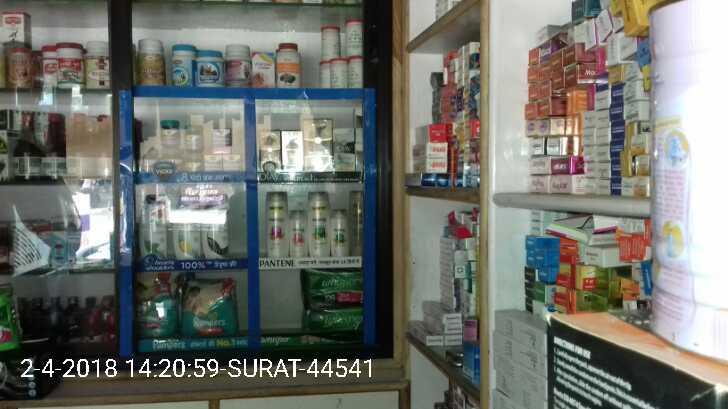vicks: (211, 127, 235, 154), (159, 118, 182, 146), (186, 124, 203, 152), (224, 155, 241, 172), (205, 155, 223, 171)
